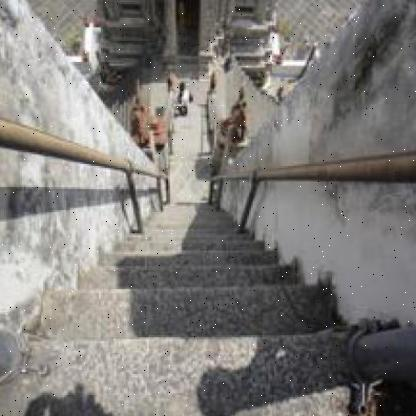stair_down: (33, 179, 349, 347)
